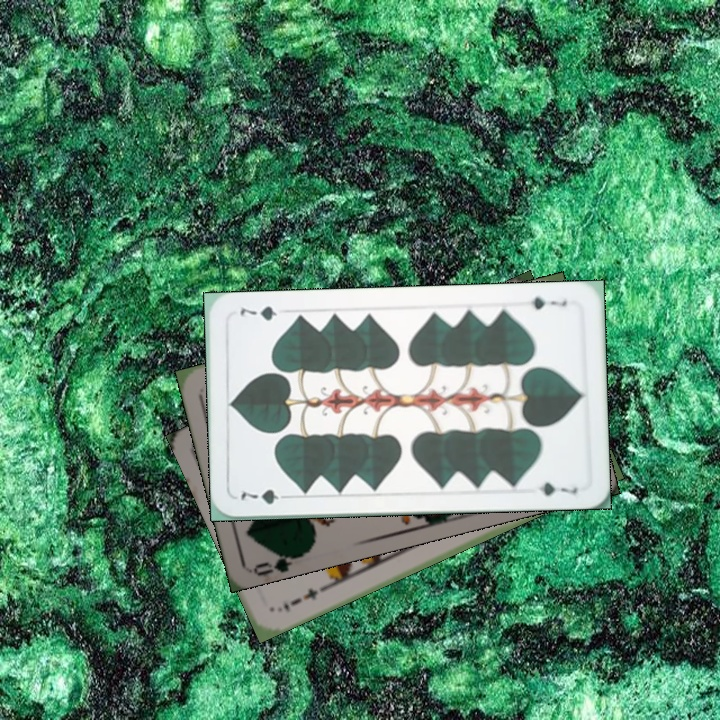E7: (279, 582, 328, 615)
G7: (237, 485, 294, 507), (527, 293, 570, 312)
GO: (250, 545, 308, 577)
